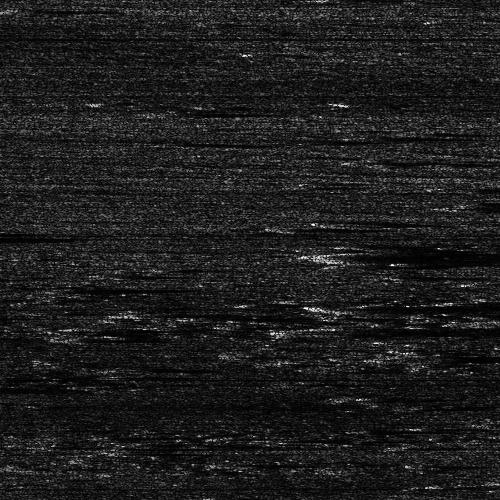rock: (382, 313, 500, 330), (369, 348, 462, 363), (287, 302, 360, 311), (443, 201, 496, 210), (134, 109, 187, 116), (362, 392, 415, 399), (287, 254, 360, 259), (275, 224, 328, 229), (292, 326, 333, 331)
shadow: (324, 302, 500, 311), (416, 348, 500, 363), (0, 380, 86, 391), (324, 254, 500, 259), (0, 229, 72, 240), (389, 392, 500, 399), (161, 109, 262, 116), (302, 224, 412, 229), (470, 201, 500, 210), (313, 326, 350, 331)
